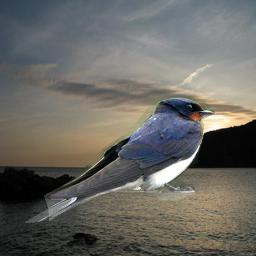Swallow: (25, 97, 215, 229)
